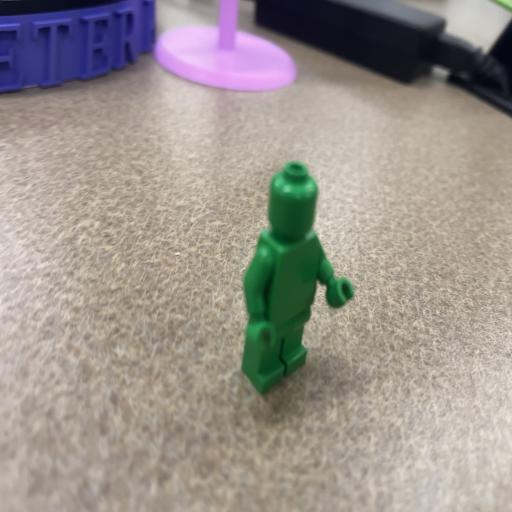Lego-Minifig: (242, 162, 353, 393)
